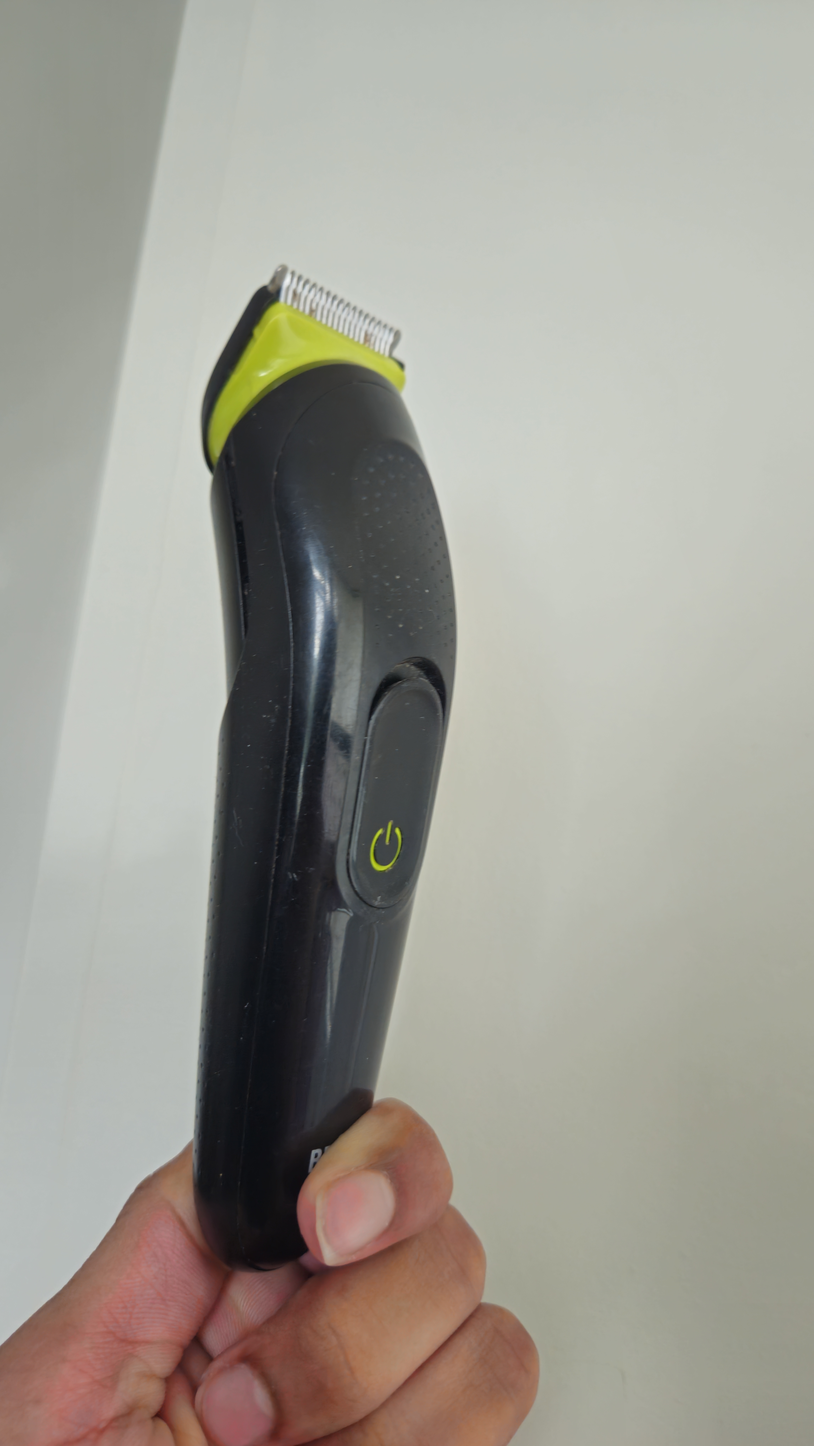garbage: (194, 266, 455, 1270)
